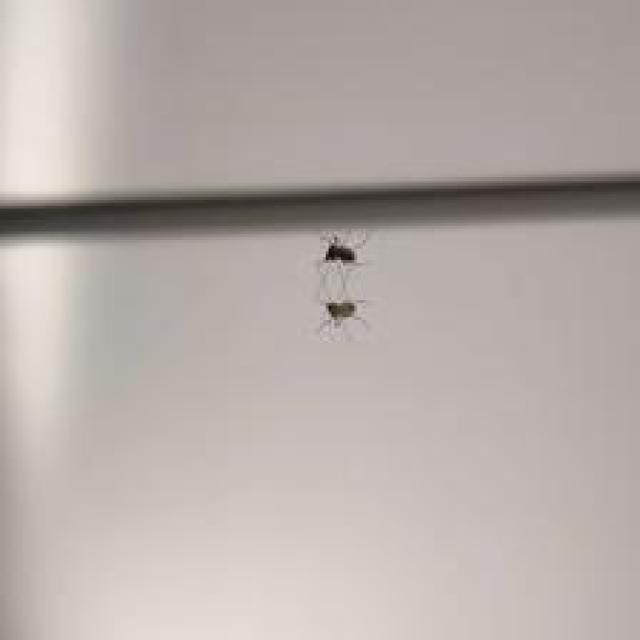Culex: (314, 229, 372, 340)
